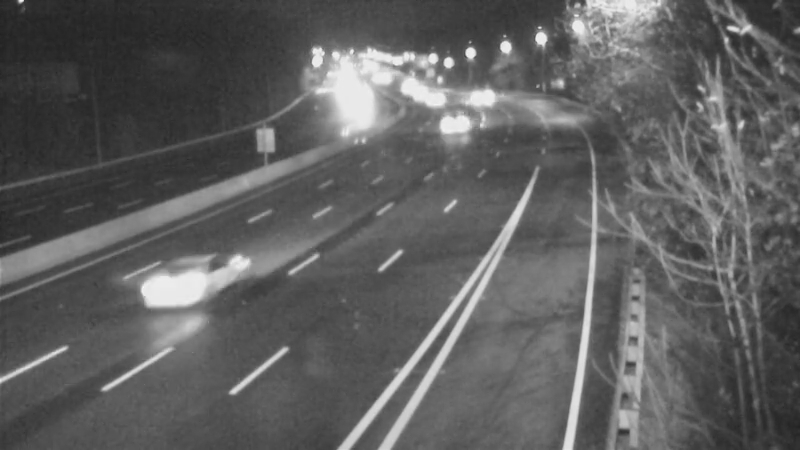vehicle: (132, 247, 212, 327), (378, 62, 428, 112), (399, 69, 449, 119), (408, 73, 458, 123), (461, 76, 511, 126), (429, 104, 479, 154), (335, 79, 385, 129)
